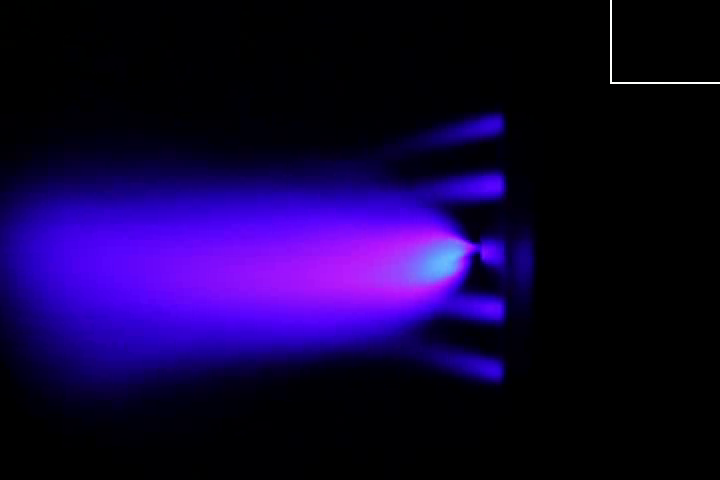burner cap: (477, 237, 512, 269)
pilot flame: (403, 338, 508, 383), (403, 115, 505, 152), (409, 172, 507, 201), (435, 295, 512, 323)
stable: (314, 208, 480, 305)
